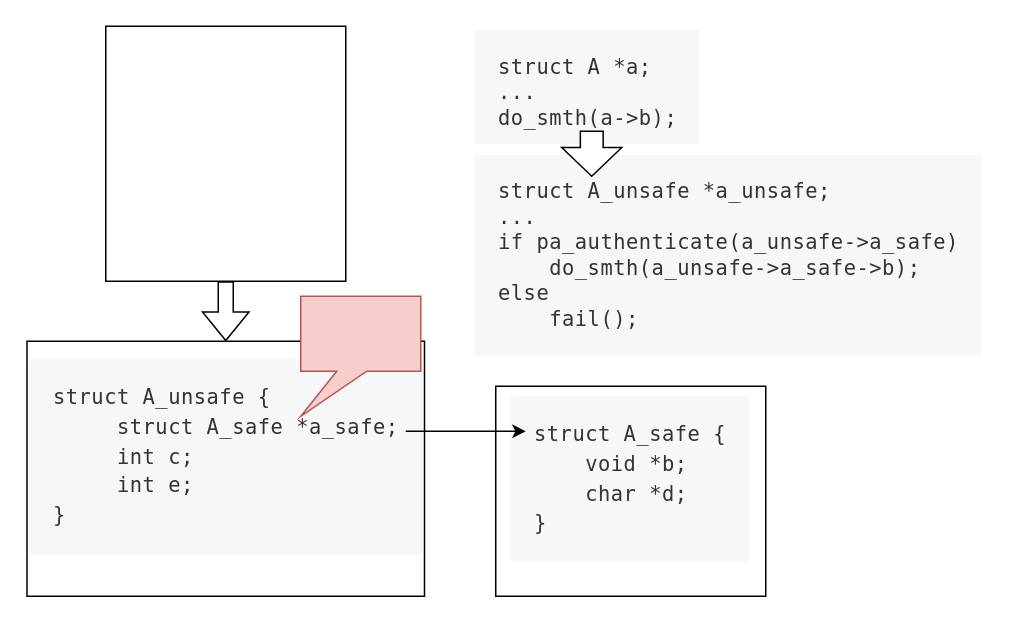
Image size: 1031x623. Some labels were removed from this diagram. The centre of each missing label's shape, as x and y in pixels:
Pointer Authentation: point 360,355
struct A { void *b; int c; char *d; int e; }: point 225,153
